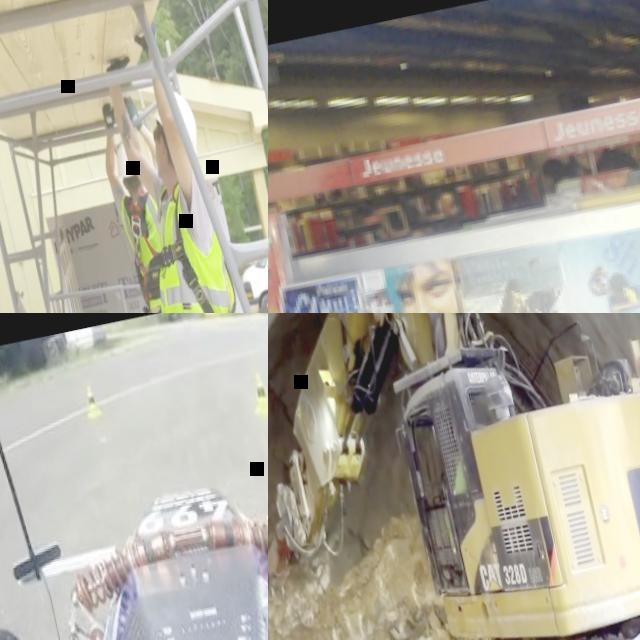Hardhat: (149, 86, 203, 165), (112, 139, 139, 177)
NO-Mask: (149, 131, 173, 178)
Person: (97, 17, 268, 313), (91, 89, 228, 313), (429, 431, 482, 549)
Safety Cone: (246, 369, 268, 417), (81, 384, 103, 420)
Safety Vest: (131, 173, 249, 313), (117, 182, 179, 309), (447, 454, 469, 494)
machinery: (268, 313, 640, 640)
vehicle: (0, 313, 268, 640)
